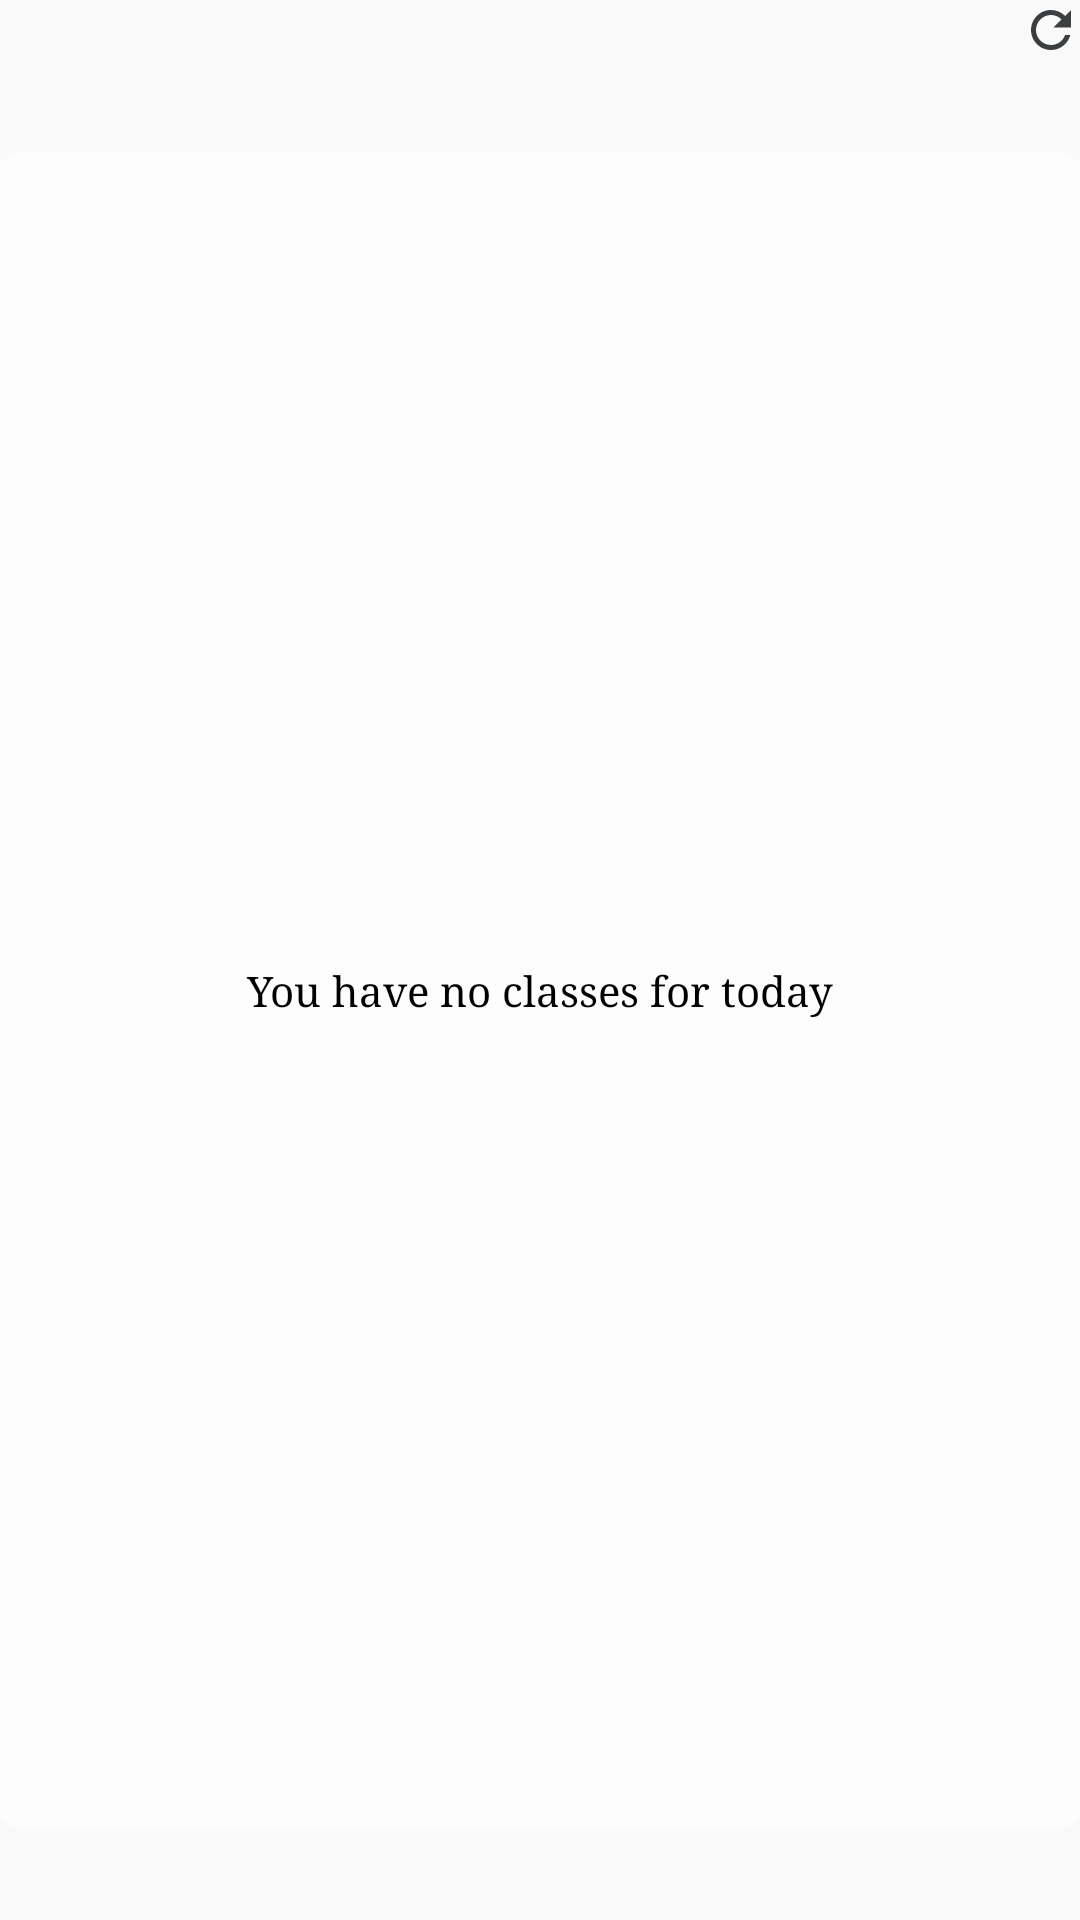

Where icons sit on this 1080x1920 app screen, as Rect(x1, y1, x2, y2):
refresh: Rect(1031, 10, 1071, 50)
